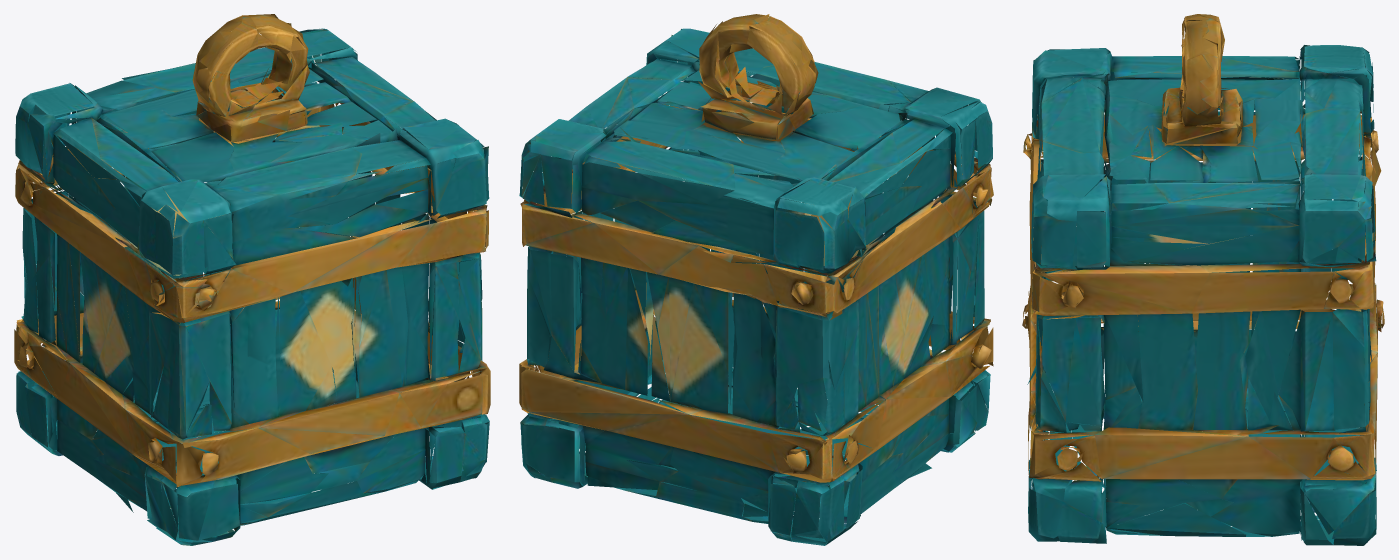
File: crate.glb
3 renders of one model, left to right at view 1: azimuth 30°, elevation 25°; view 2: azimuth 150°, elevation 25°; view 3: azimuth 270°, elevation 25°, orthographic. The views are drawn at different scales.
Parts seen in each view (by area): view 1: Mesh_0; view 2: Mesh_0; view 3: Mesh_0.
Part boxes in pixels (<box>): Mesh_0: <box>14,14,490,545</box>; Mesh_0: <box>519,14,993,545</box>; Mesh_0: <box>1022,14,1384,545</box>.
Size of the model in its own units: 0.7867 by 1 by 0.7252.
1 material, 1 textured.
